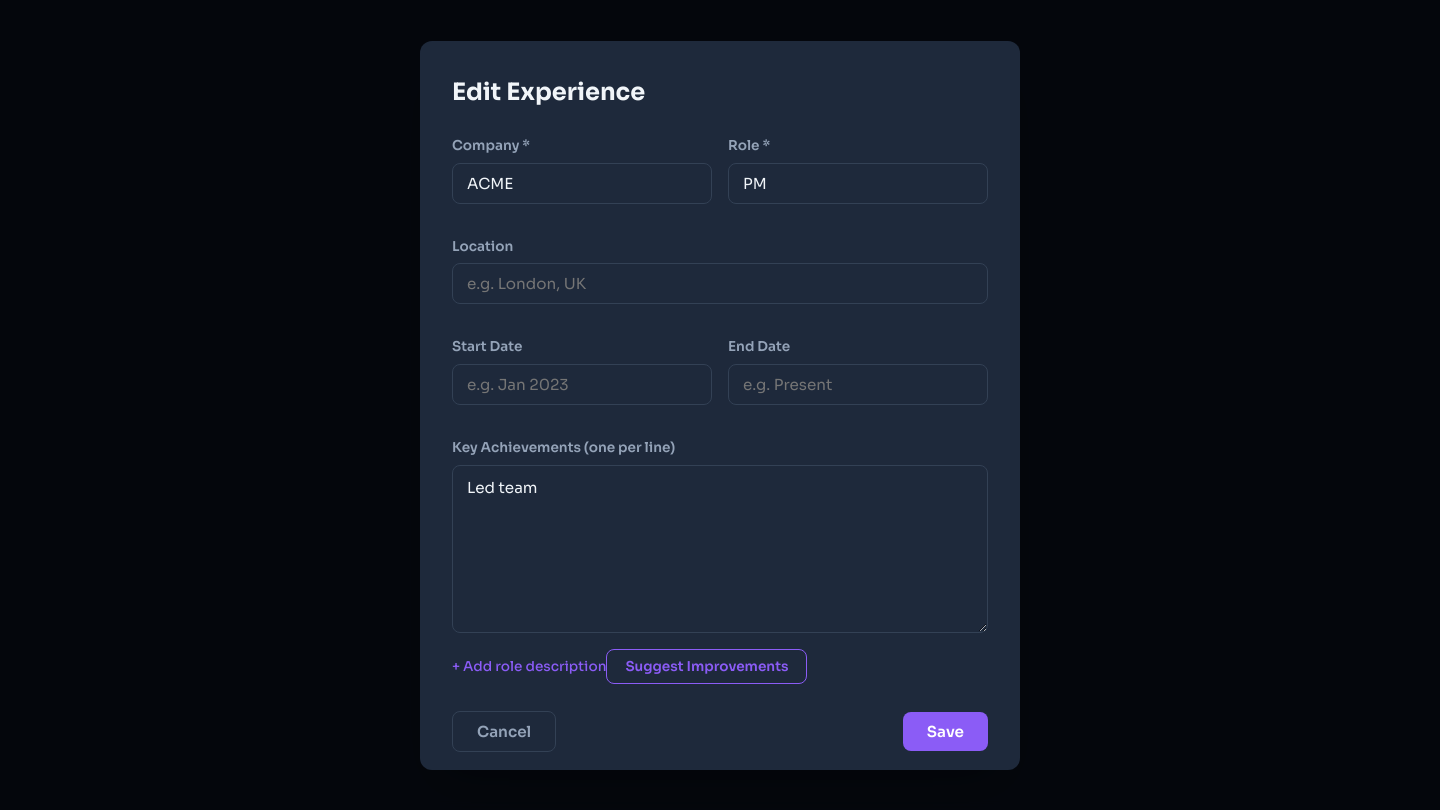
ExperienceForm › displays suggestions and accepts them
Click the button "Suggest Improvements".
click(707, 666)  # box [606,649,807,684]
(page scrolled)
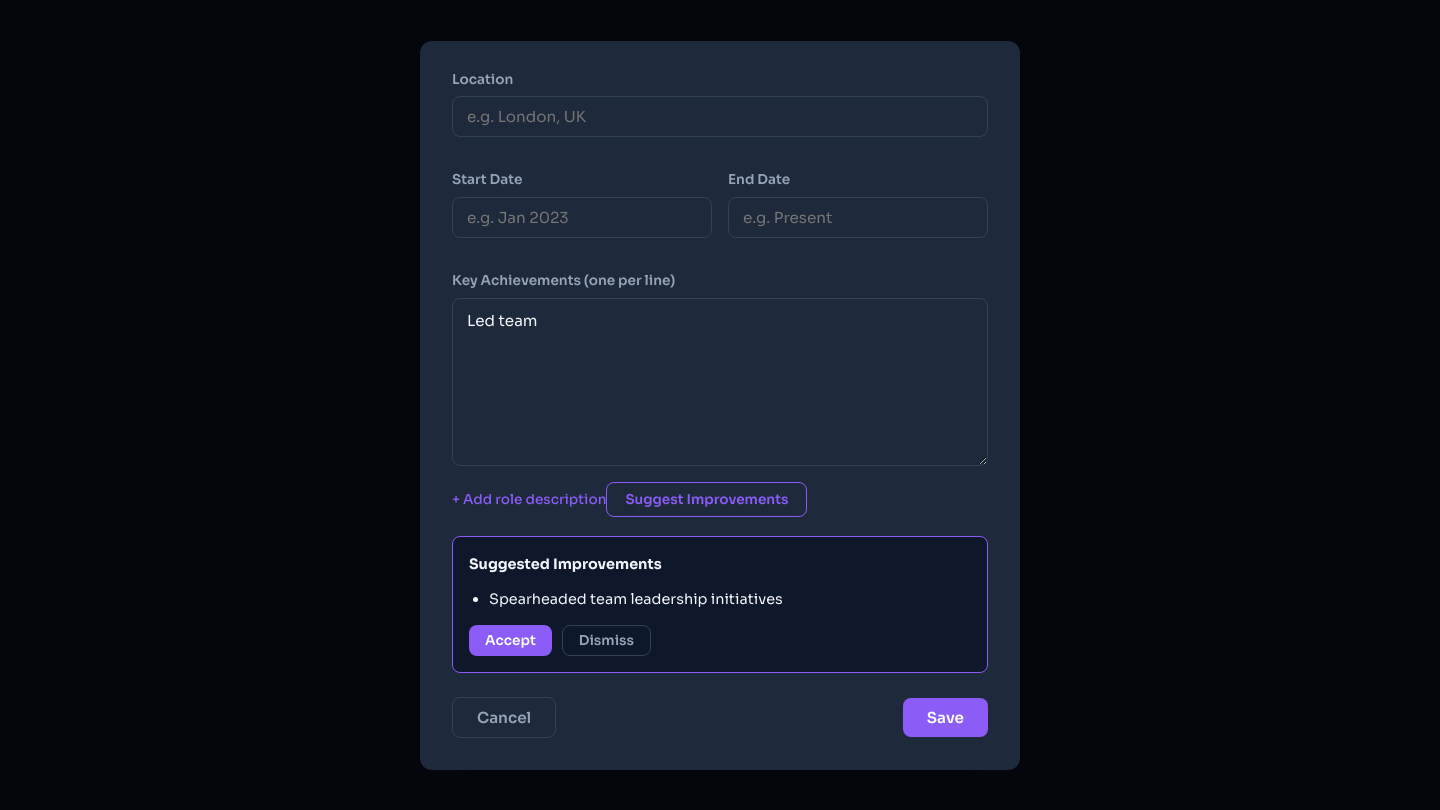
Expected: the heading "Suggested Improvements" is shown, [469,555,662,573]
Expected: the list item "Spearheaded team leadership initiatives" is shown, [489,590,783,608]
Click the button "Accept".
click(510, 640)  # box [469,625,552,656]
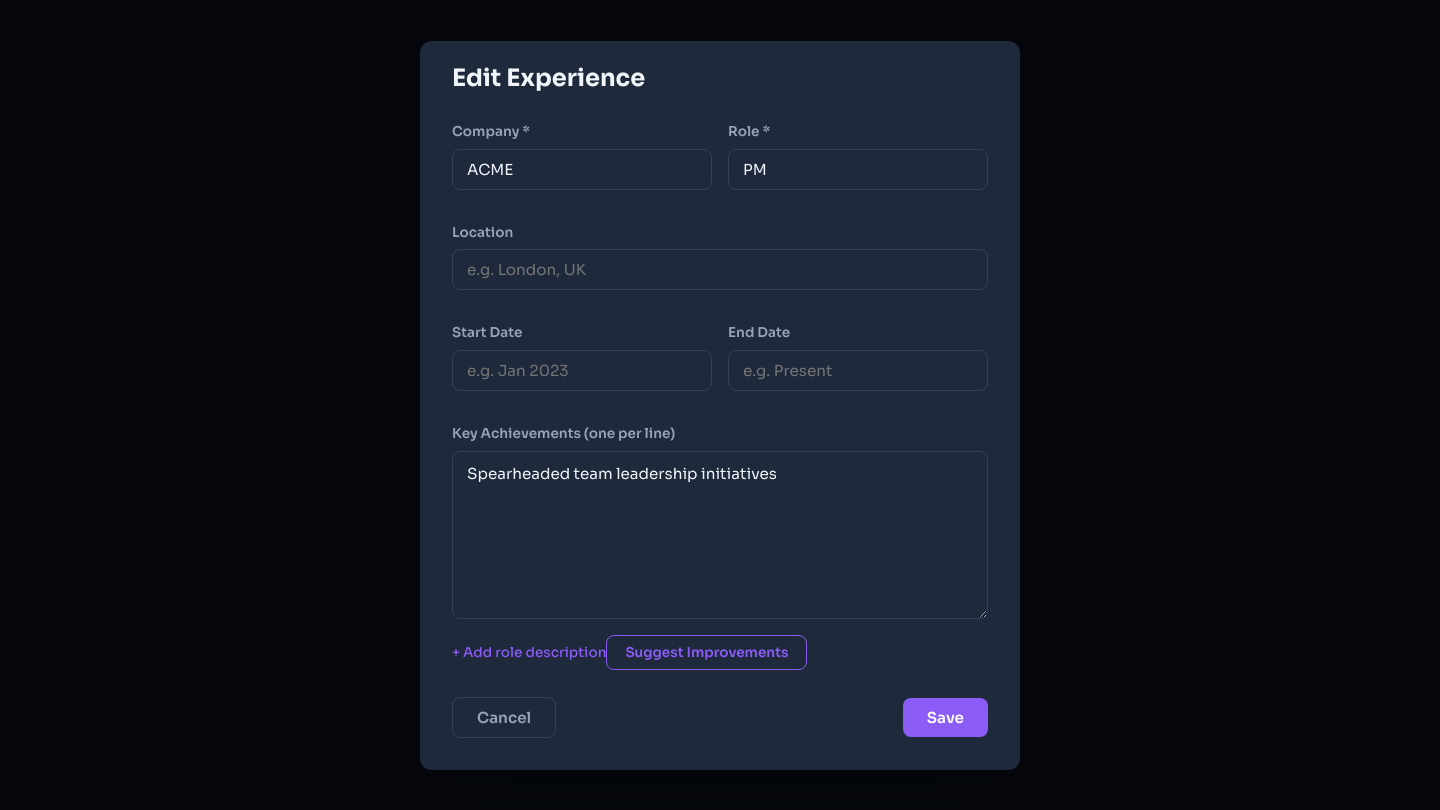
Expected: the text box with placeholder "Led cross-functional team" holds "Spearheaded team leadership initiatives", [452,451,988,619]
Expected: the heading "Suggested Improvements" is gone
